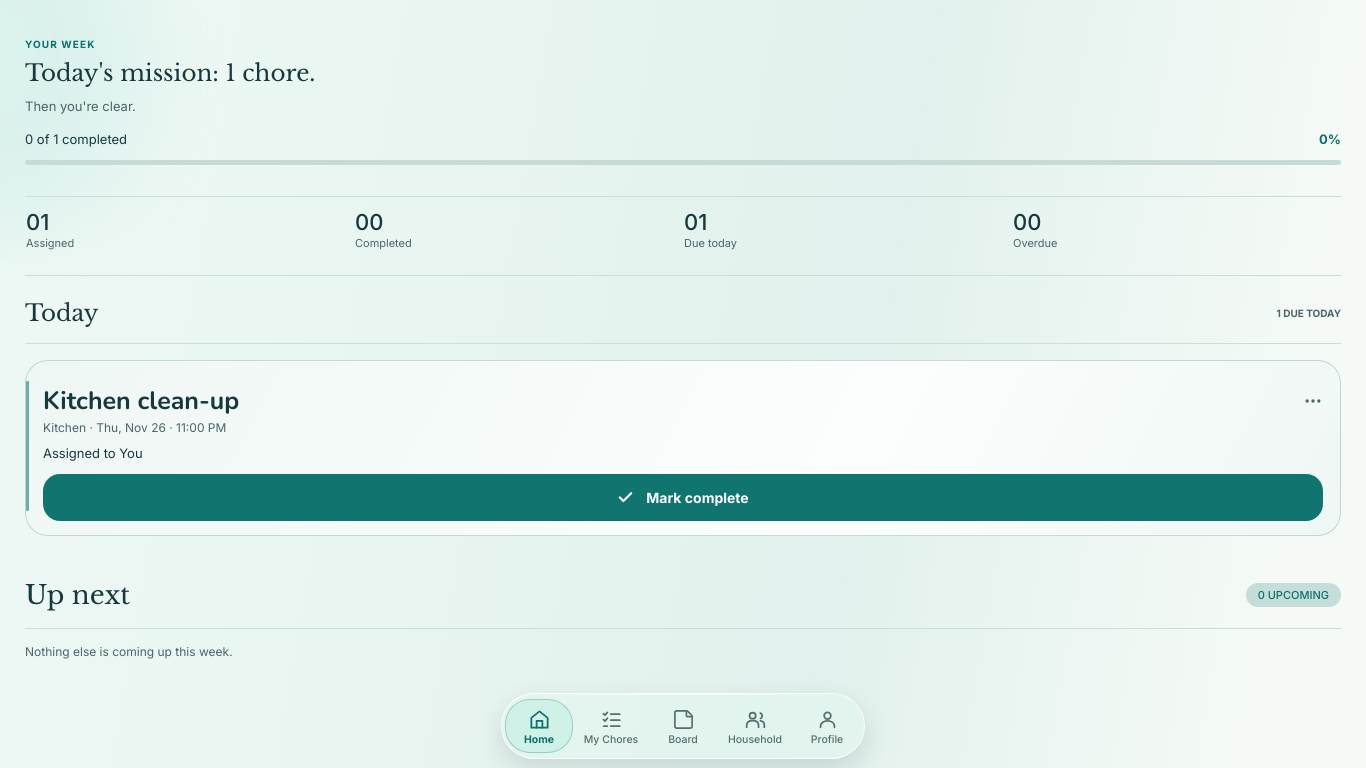
single-occurrence actions on Home and My Chores › shows a skip at once, takes it out of the week totals and keeps My Chores in step
(page scrolled)
Check: the heading "Today" is shown, box [25,300,98,328]
Click the button named "More actions for Kitchen clean-up": (1313, 401) [1291,379,1335,423]
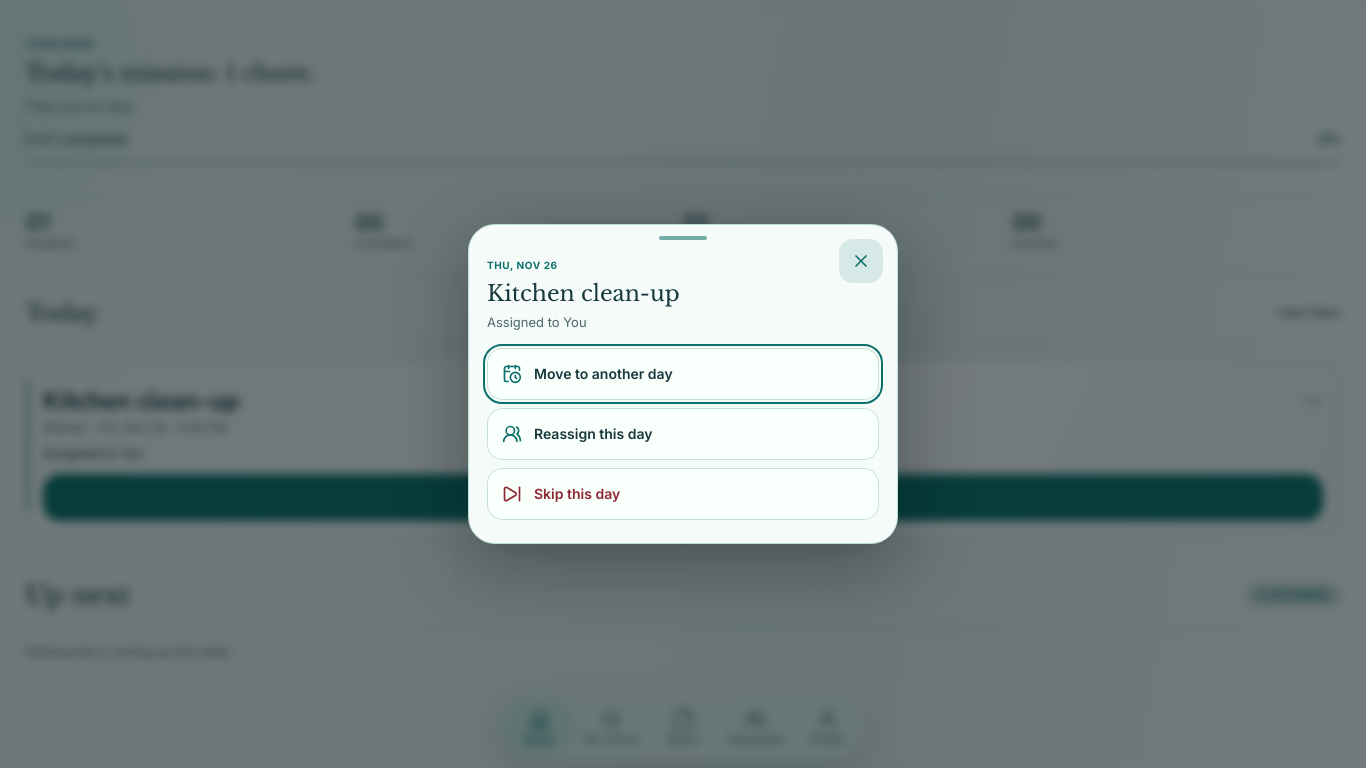
Click the button "Skip this day": (577, 494) [487,468,879,520]
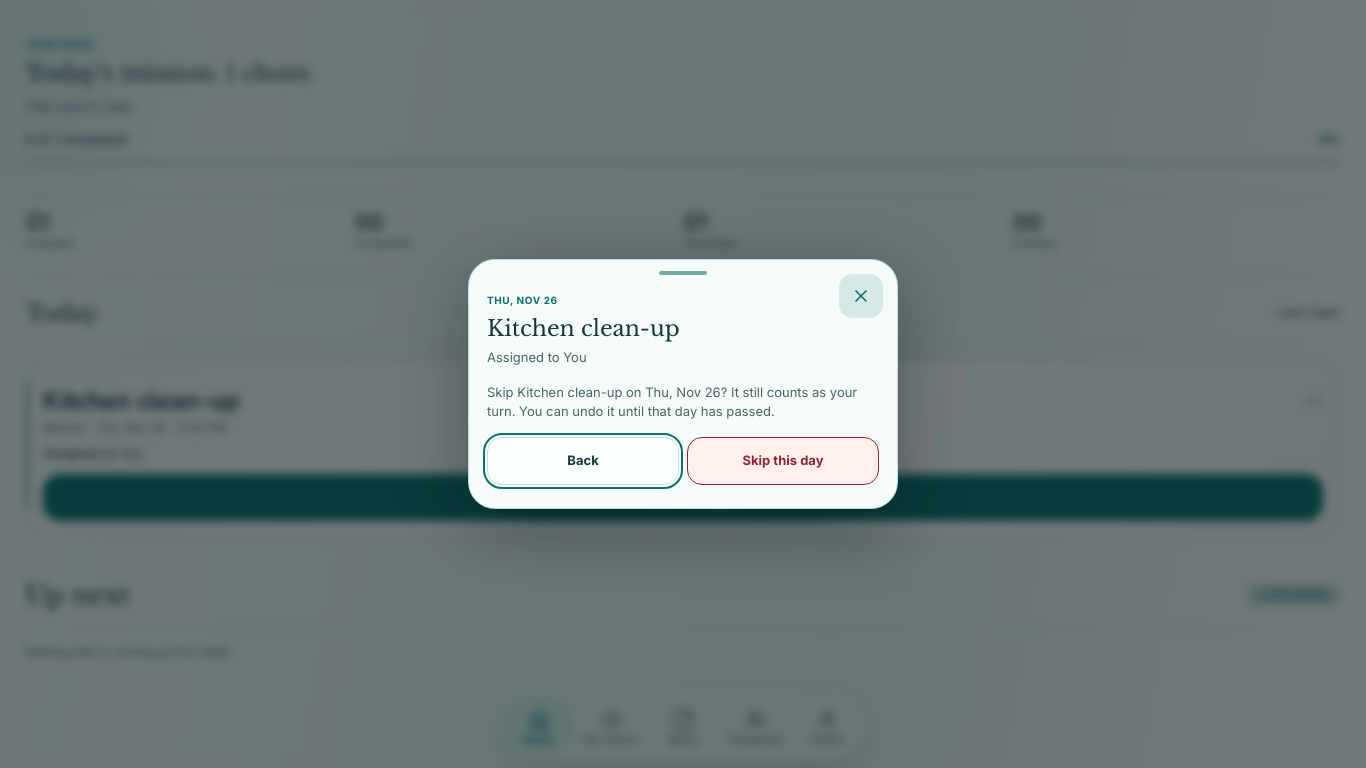
Click the button "Skip this day": (783, 461) [687,437,879,485]
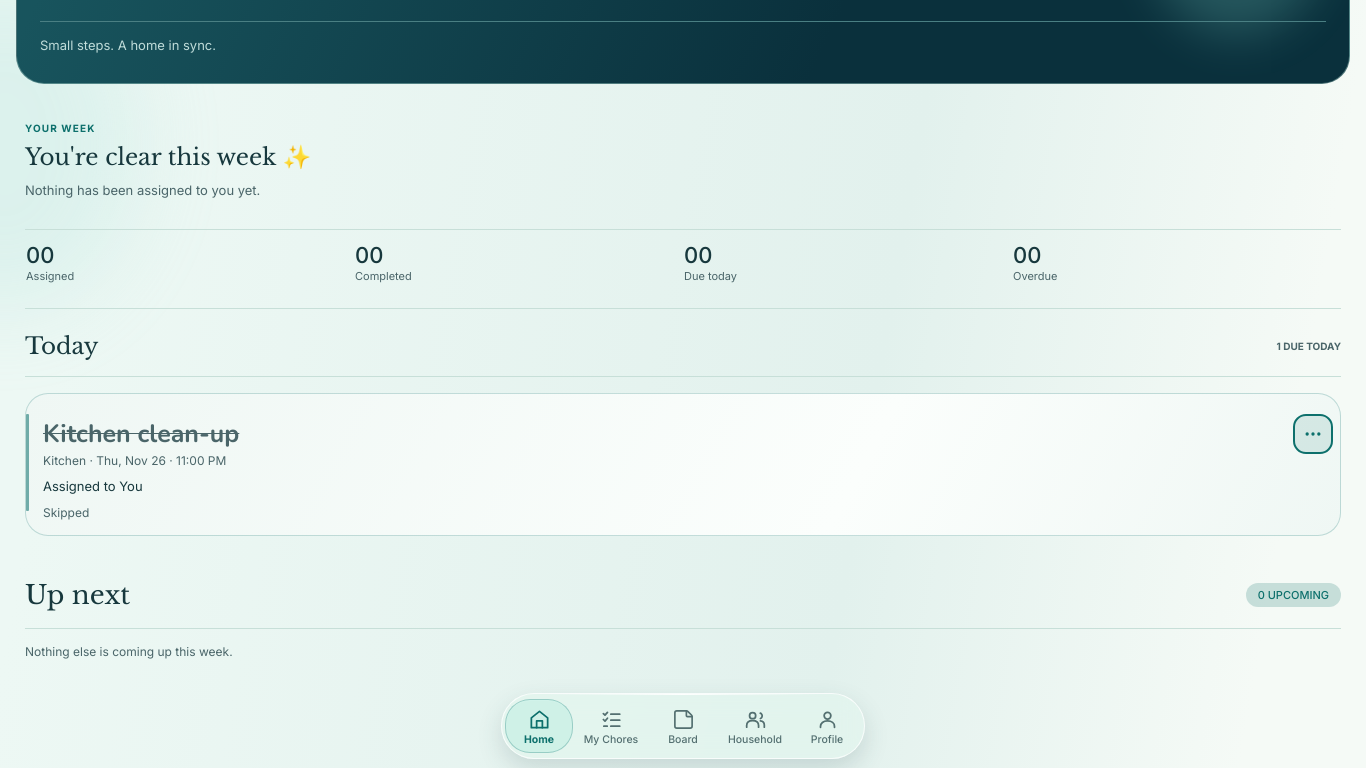
Check: the dialog is gone
Check: the text "Skipped" is shown, box [43,505,89,520]
Check: the button "Mark complete" is gone
Click the button named "More actions for Kitchen clean-up": (1313, 434) [1291,412,1335,456]
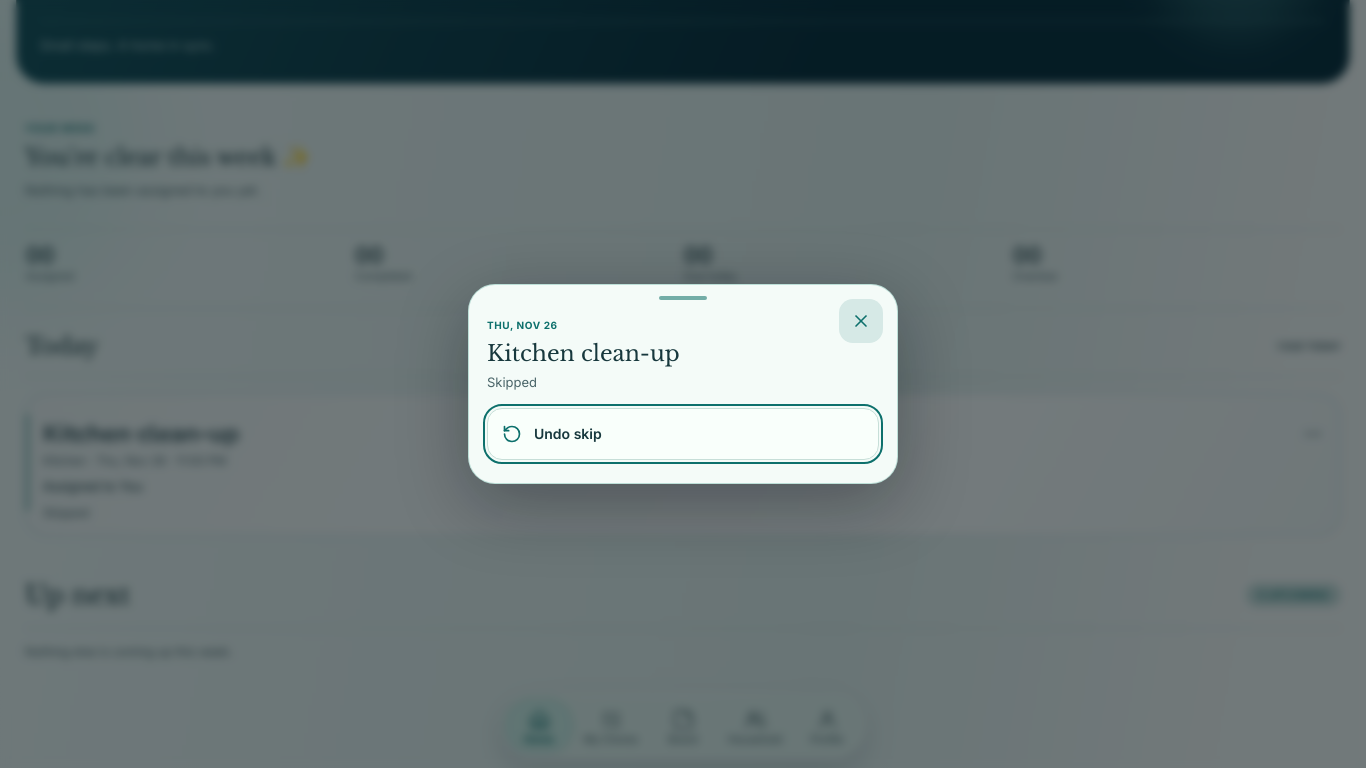
Check: the button "Undo skip" is shown, box [487,408,879,460]
Press Escape
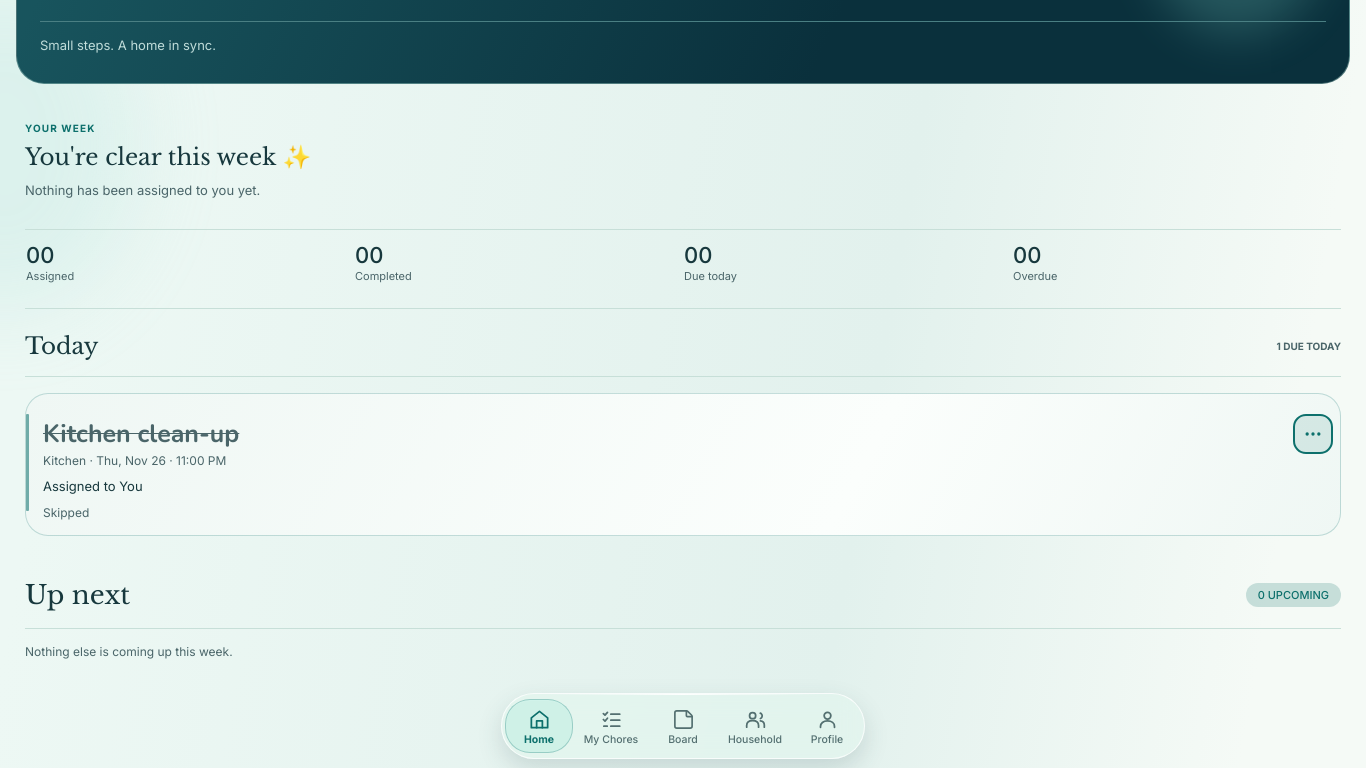
Click the button "My Chores": (611, 726) [575,696,647,756]
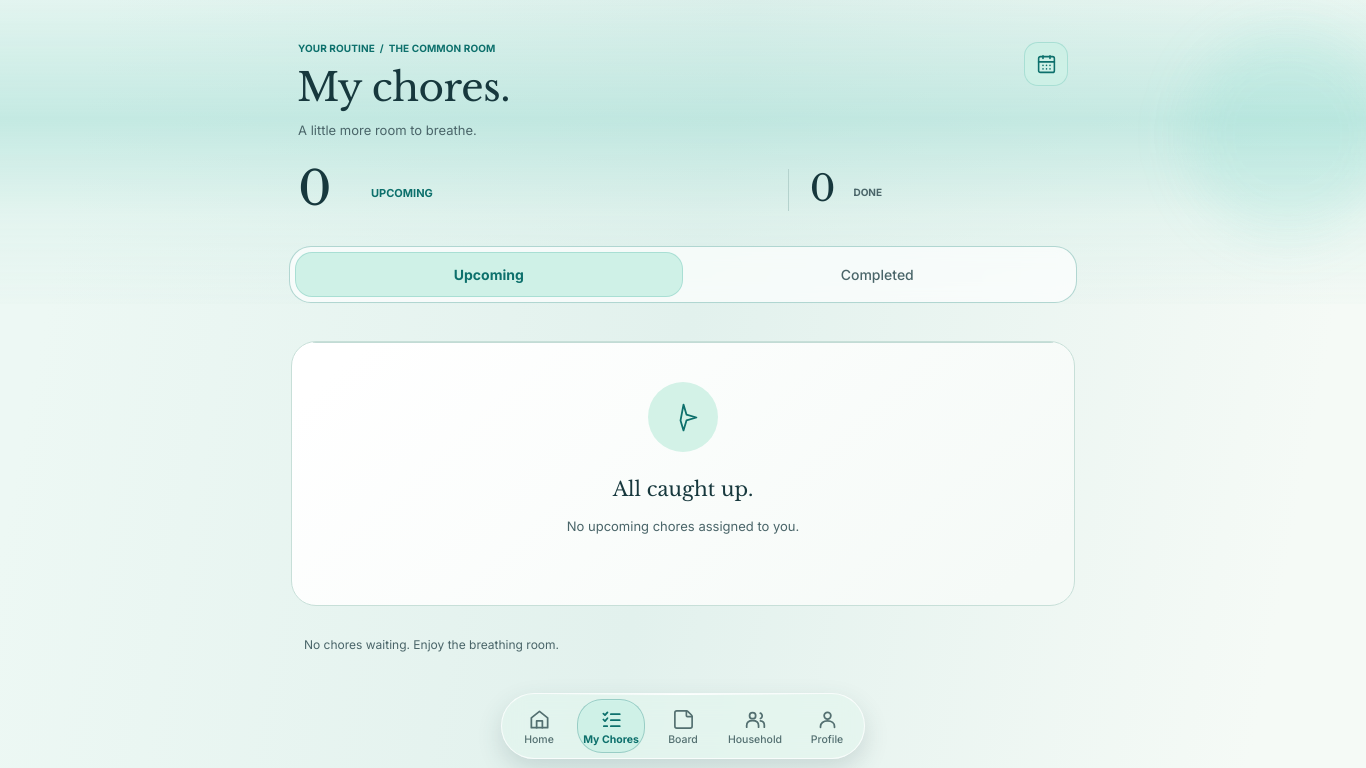
Check: the heading "My chores." is shown, box [297,63,510,112]
Check: the heading "Kitchen clean-up" is gone
